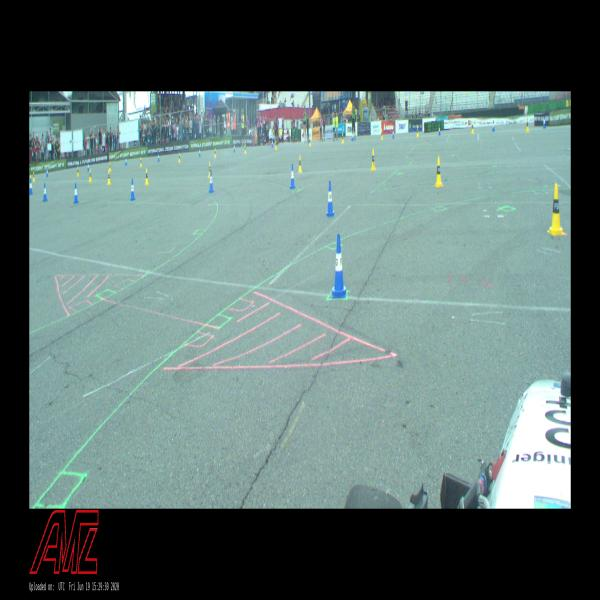blue_cone: (332, 235, 346, 297), (326, 181, 334, 216), (130, 178, 136, 200), (290, 164, 295, 189), (73, 183, 79, 203), (42, 183, 48, 202), (209, 171, 214, 192), (492, 120, 495, 132), (543, 116, 546, 128), (30, 179, 32, 194), (438, 125, 441, 135), (125, 156, 127, 166), (158, 152, 160, 162), (46, 167, 48, 177), (199, 148, 201, 157), (88, 163, 89, 171), (352, 133, 353, 141), (393, 130, 394, 138), (272, 139, 273, 147), (234, 145, 235, 152)
yellow_cone: (548, 184, 564, 234), (434, 156, 443, 186), (371, 150, 376, 170), (145, 168, 149, 185), (298, 155, 302, 172), (107, 170, 111, 185), (208, 161, 211, 179), (526, 118, 529, 132), (89, 169, 92, 182), (416, 125, 419, 137), (471, 122, 474, 134), (341, 133, 344, 144), (381, 129, 383, 140), (109, 161, 111, 172), (140, 157, 142, 167), (275, 140, 277, 150), (309, 136, 311, 146), (77, 167, 79, 176), (33, 172, 35, 180), (245, 144, 246, 154), (179, 152, 180, 162), (215, 148, 216, 157)
